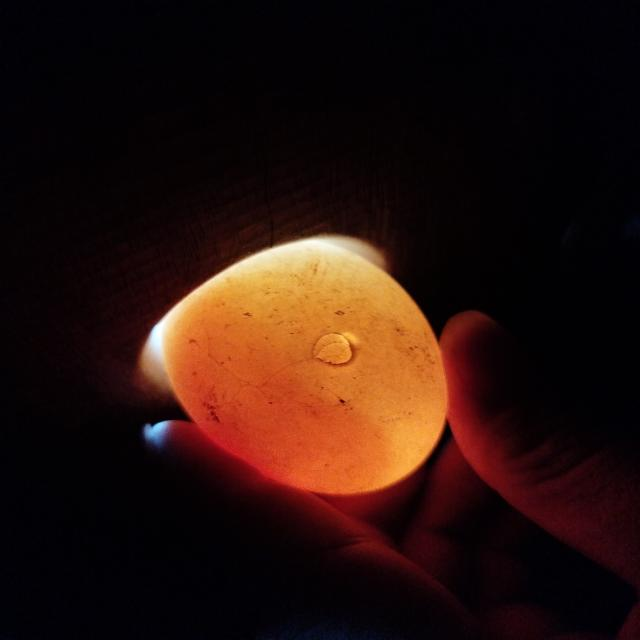Gema Quebrada: (163, 317, 388, 495)
Rachadura: (313, 333, 352, 364)
